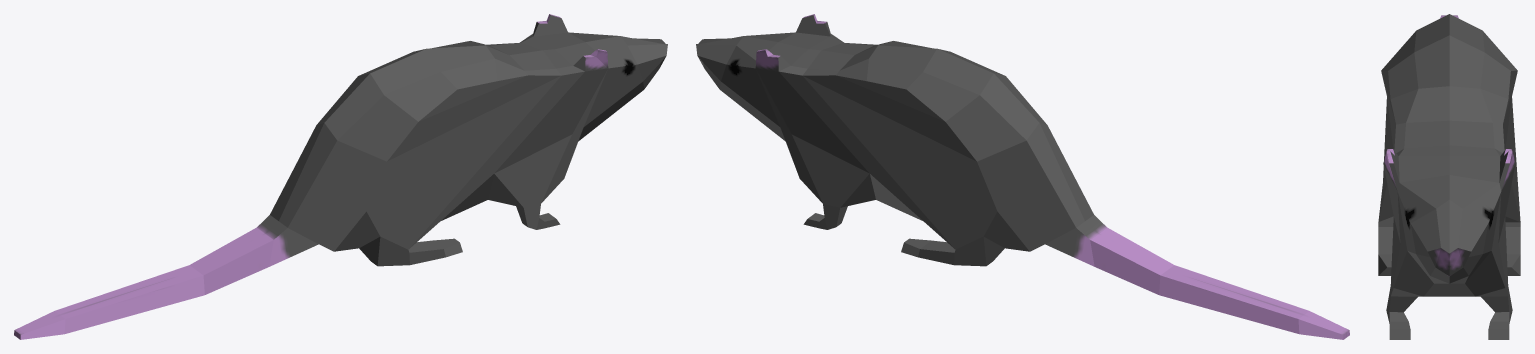
Rendered from rat.glb.
3 views of the same model, side by side, from view 1: azimuth 30°, elevation 25°; view 2: azimuth 150°, elevation 25°; view 3: azimuth 270°, elevation 25° (orthographic). The views are drawn at different scales.
Parts seen in each view (by area): view 1: Rat_Mirror_not_applied; view 2: Rat_Mirror_not_applied; view 3: Rat_Mirror_not_applied.
Boxes of the visible parts, left/top/right/bottom form: Rat_Mirror_not_applied: left=14, top=14, right=667, bottom=339; Rat_Mirror_not_applied: left=696, top=14, right=1349, bottom=339; Rat_Mirror_not_applied: left=1378, top=14, right=1520, bottom=339.
Size of the model in its own units: 5.79 by 1.61 by 0.8625.
Materials: 1 (1 with a texture image).
